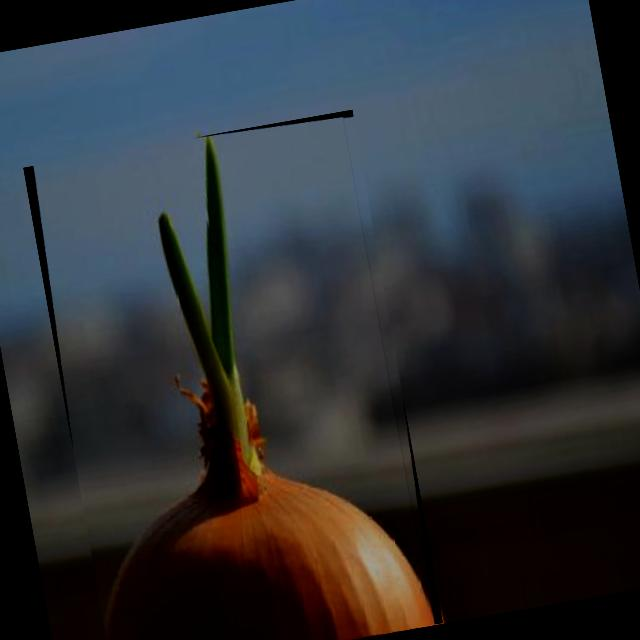sprouting: (105, 135, 431, 640)
